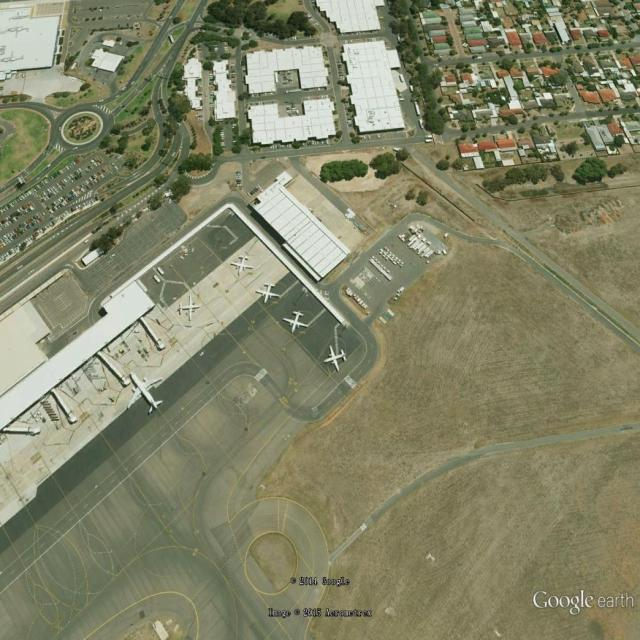aircraft: (126, 372, 168, 418), (324, 343, 352, 374), (282, 309, 311, 336), (177, 294, 201, 326), (229, 253, 255, 278), (255, 282, 283, 305)
